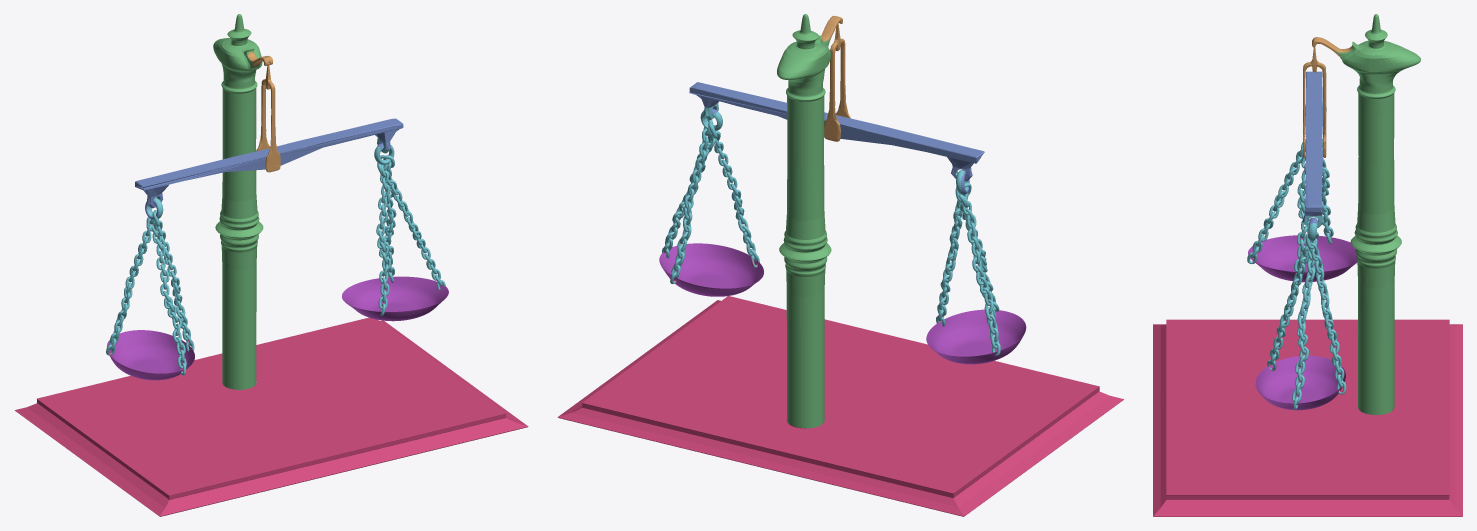
The picture shows the model from 3 angles, left to right: view 1: azimuth 30°, elevation 25°; view 2: azimuth 150°, elevation 25°; view 3: azimuth 270°, elevation 25°; orthographic projection. The views are drawn at different scales.
Parts seen in each view (by area): view 1: public_2d_026.ply; view 2: public_2d_026.ply; view 3: public_2d_026.ply.
Boxes of the visible parts, <box> form: public_2d_026.ply: <box>14,14,528,516</box>; public_2d_026.ply: <box>557,14,1123,516</box>; public_2d_026.ply: <box>1153,14,1462,516</box>.
Bounding box in the file's own units: 0.6396 × 0.6329 × 0.4362.
